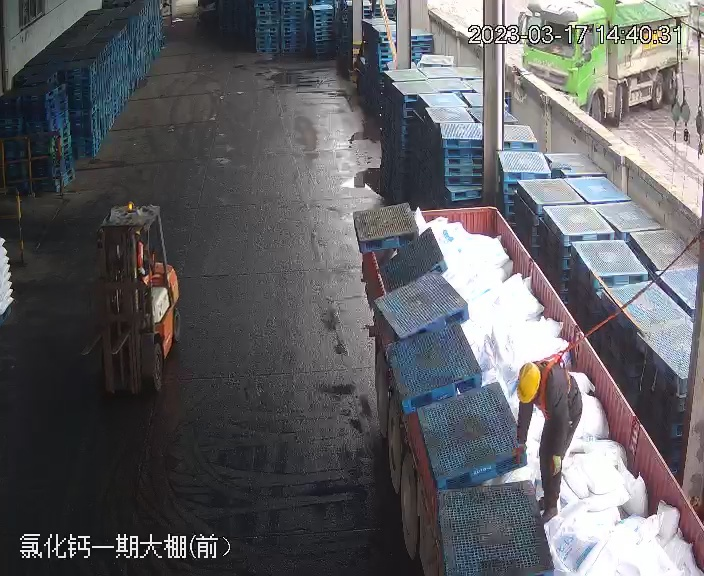belt: (535, 347, 576, 401)
head: (514, 359, 571, 412)
helmet: (515, 362, 541, 403)
people: (514, 355, 586, 520)
truck: (342, 199, 703, 576)
